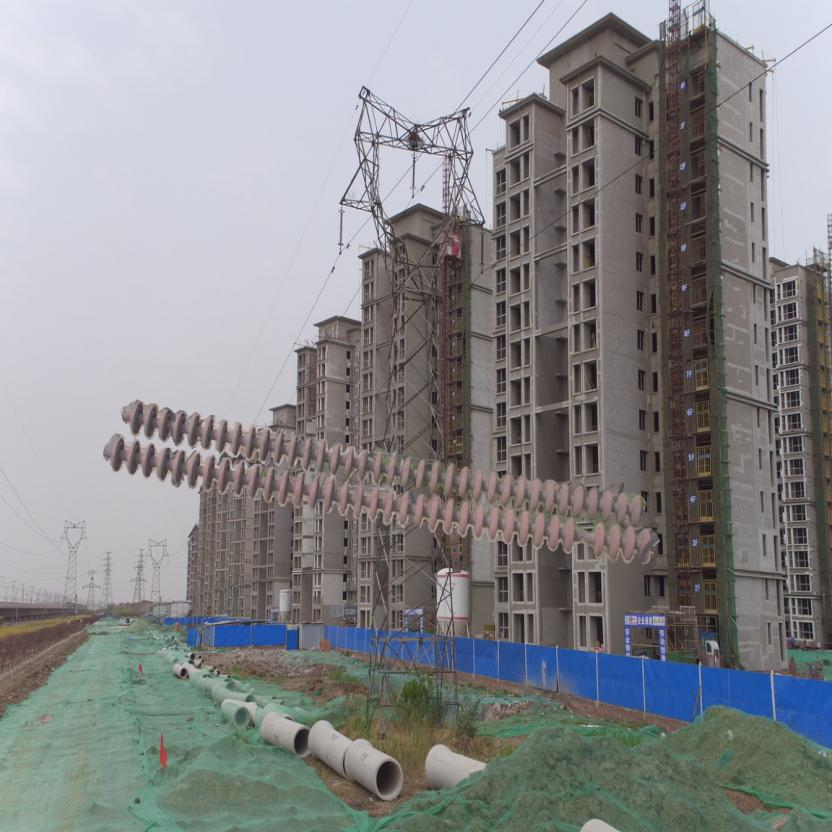defect: (559, 513, 607, 558)
